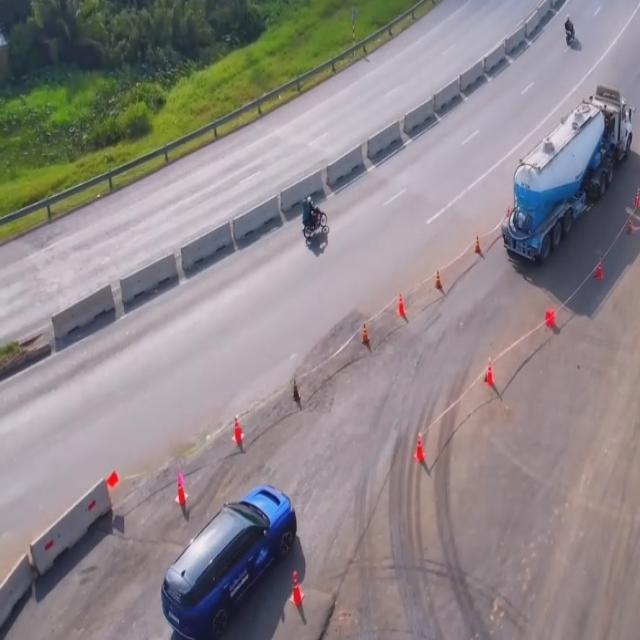car: (163, 485, 311, 640)
motorbike: (301, 197, 328, 241), (564, 15, 575, 46)
truck: (500, 84, 632, 266)
